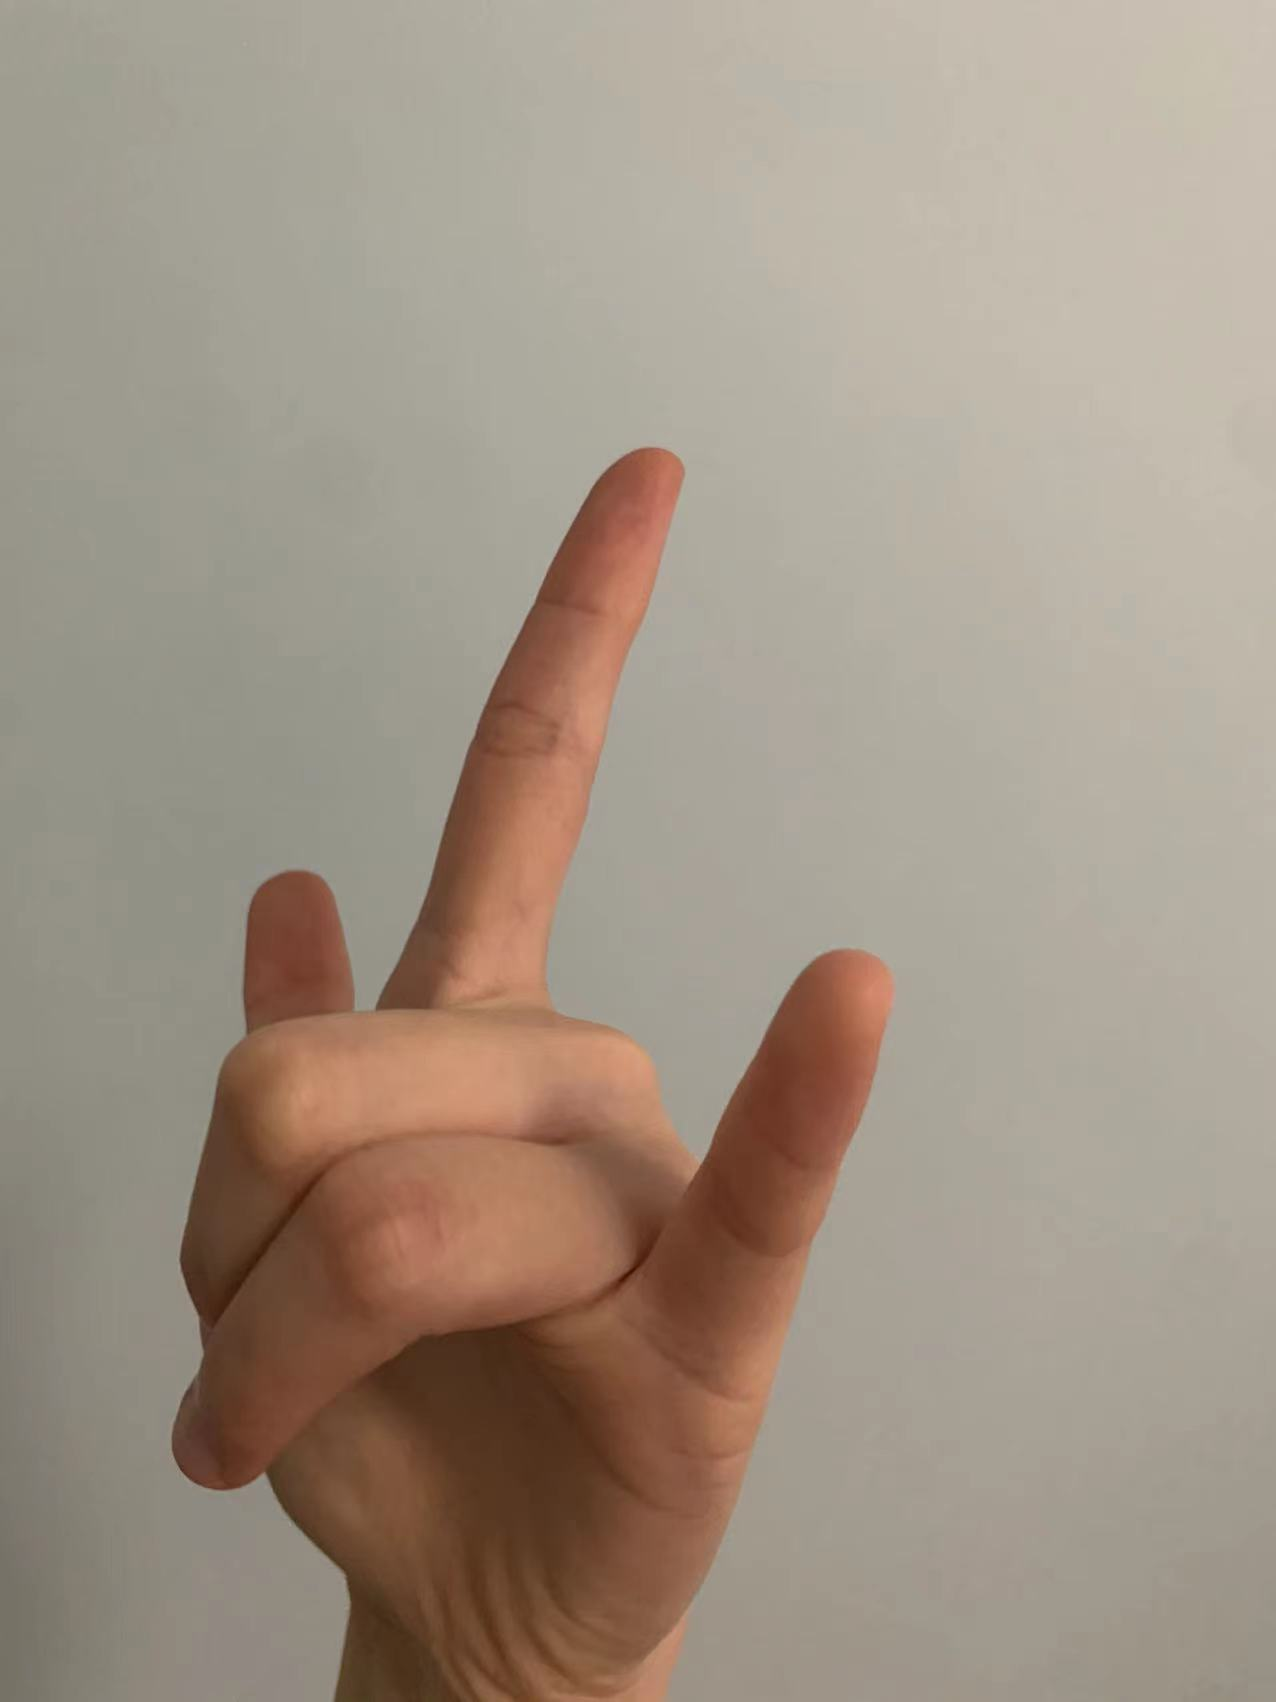back: (142, 423, 914, 1634)
